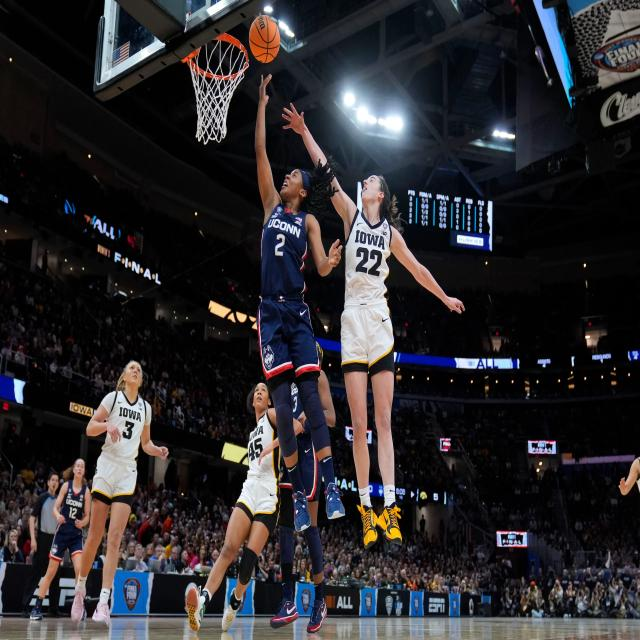basketball: (248, 14, 280, 64)
hoop: (187, 32, 249, 144)
